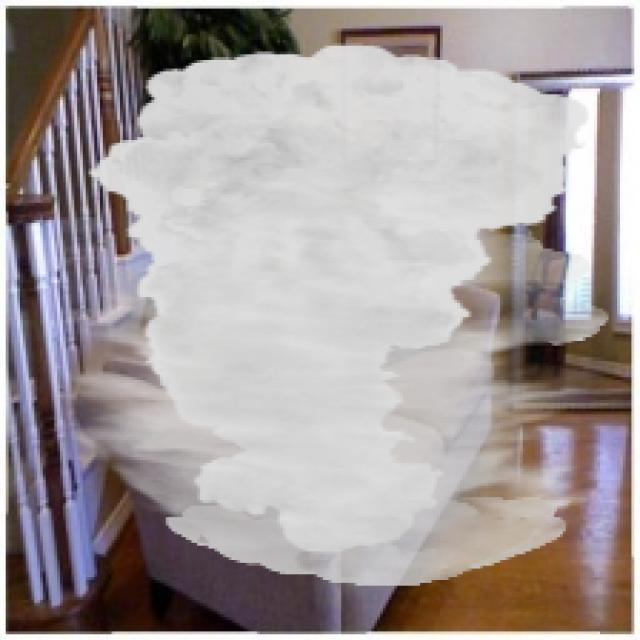Smoke: (66, 43, 608, 586)
